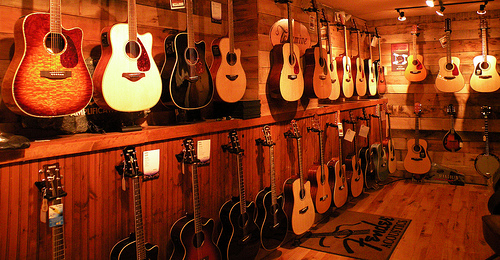guitar: (5, 1, 95, 119), (94, 1, 162, 113), (170, 135, 223, 260), (106, 146, 164, 260), (162, 1, 216, 113), (214, 129, 259, 260), (254, 124, 291, 253), (266, 1, 306, 106), (208, 1, 248, 104), (283, 117, 316, 238), (40, 160, 77, 260), (306, 3, 332, 101), (434, 18, 466, 93), (469, 18, 500, 94), (309, 113, 332, 215), (401, 101, 432, 176), (344, 103, 366, 203), (329, 106, 349, 210), (404, 23, 428, 83), (340, 11, 354, 99)
